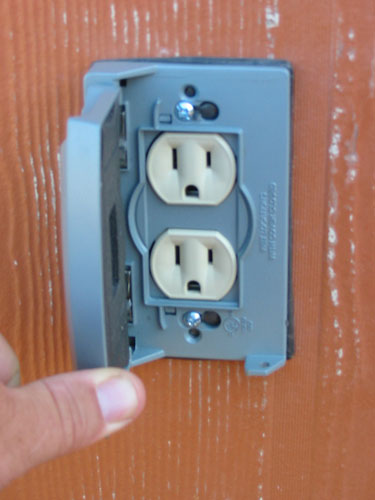outlet: (165, 143, 217, 200), (169, 240, 218, 295)
